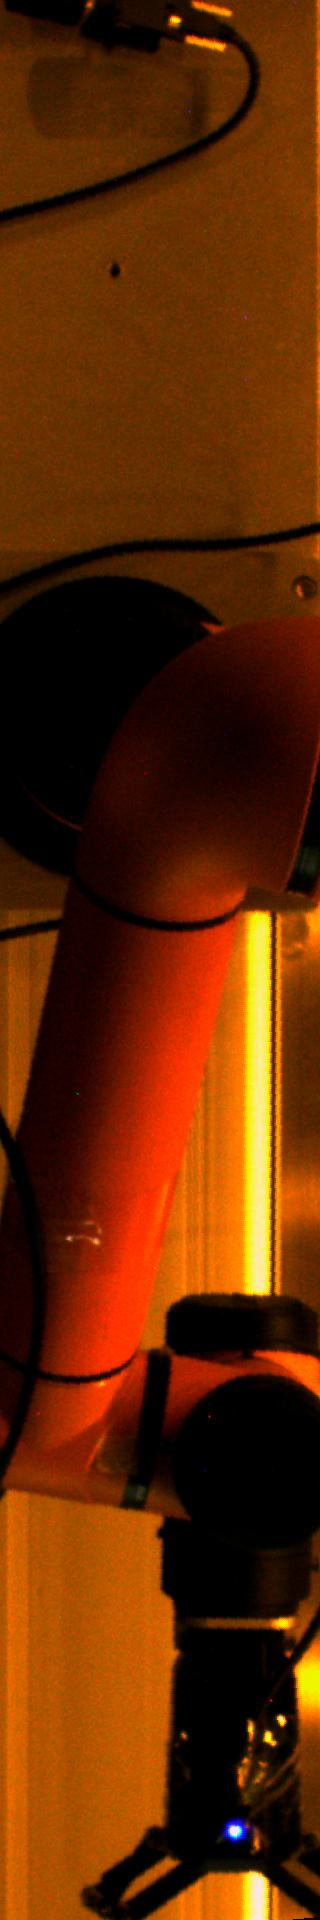keyPoint_1: (219, 1815, 250, 1845)
keyPoint_2: (99, 257, 129, 287)
